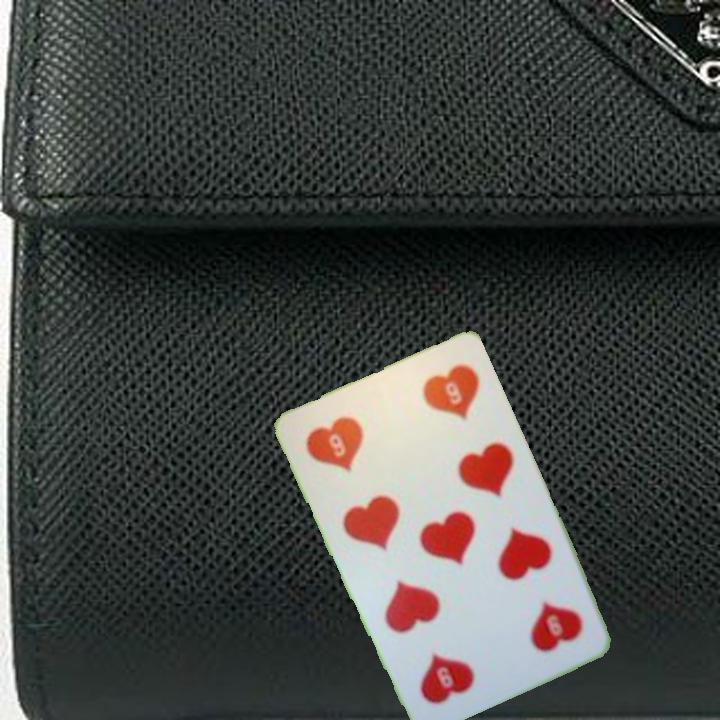h_9.png: (473, 563, 597, 681), (290, 387, 415, 504)
